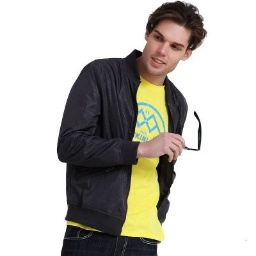face: (142, 1, 205, 75)
